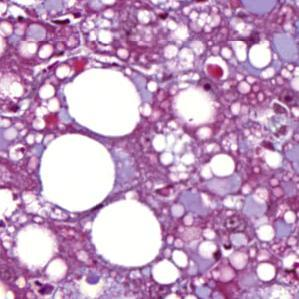steatosis: (93, 198, 165, 268)
